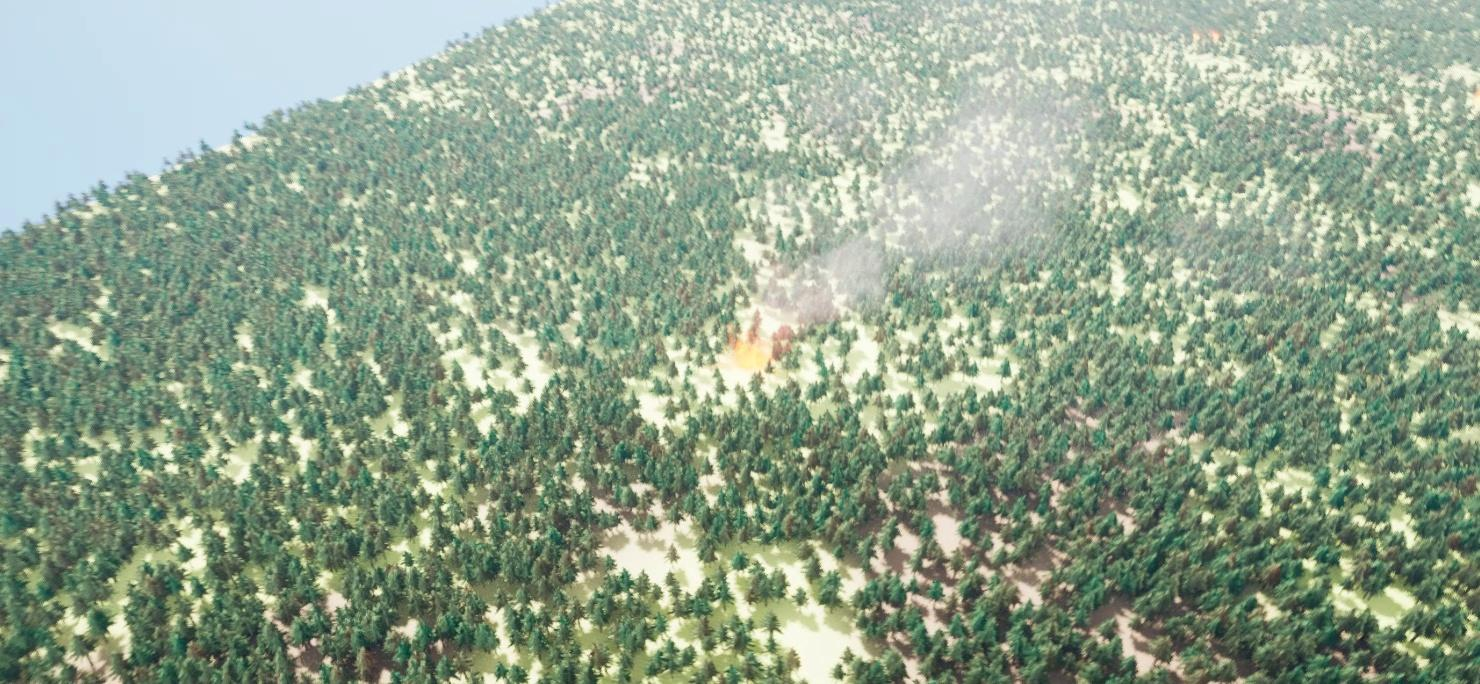fire: (721, 318, 782, 369)
smoke: (766, 52, 1084, 320)
